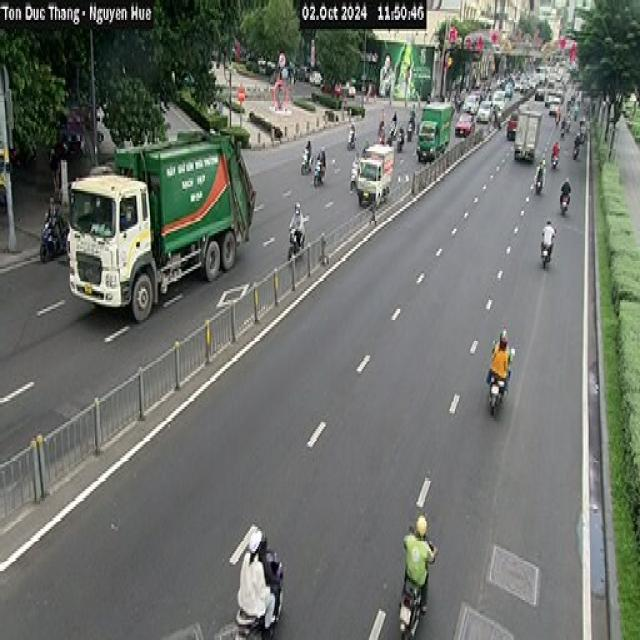motorcycle: (38, 214, 68, 262), (486, 366, 510, 416), (540, 231, 554, 267), (312, 160, 324, 184), (559, 189, 570, 213), (534, 167, 544, 193), (550, 151, 559, 169)
person: (402, 514, 438, 614), (486, 329, 514, 398), (287, 200, 305, 258)
truck: (66, 127, 256, 322)
